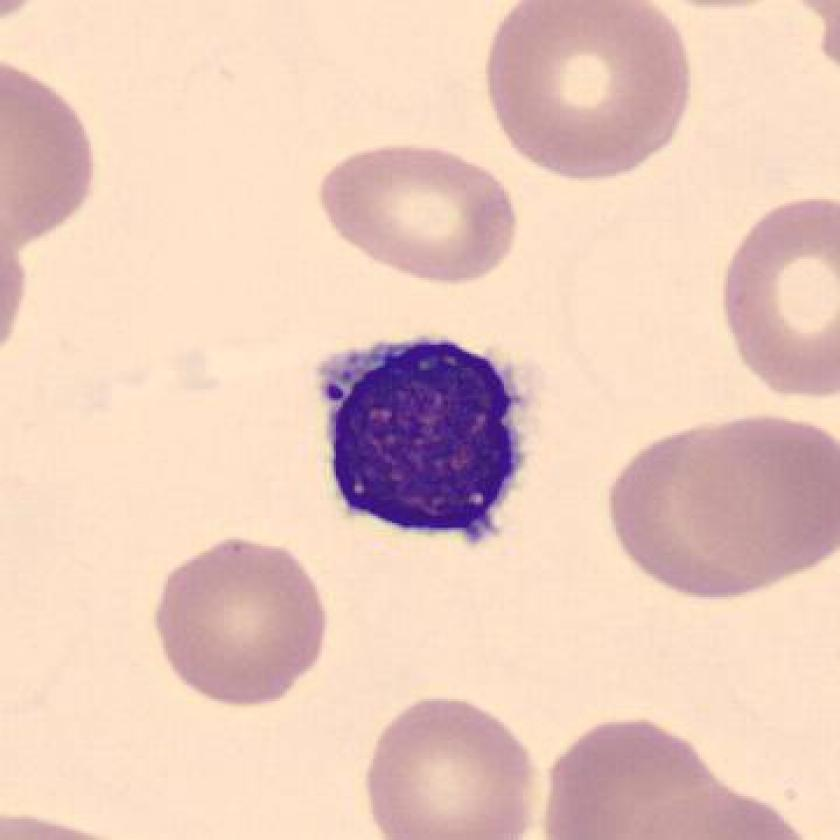lymphocyte: (302, 318, 542, 563)
